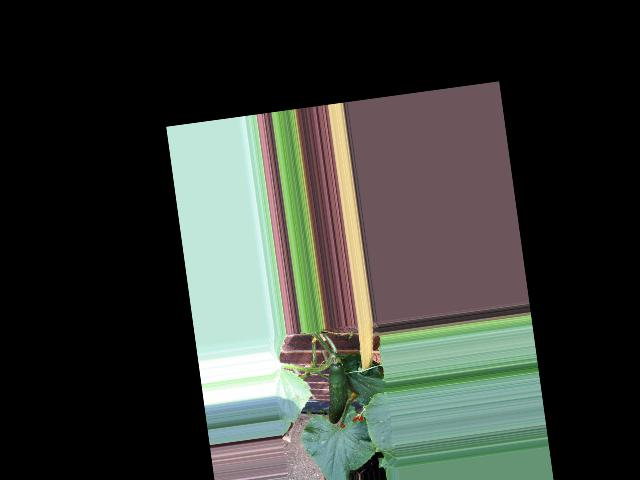cucumber: (320, 361, 352, 424)
